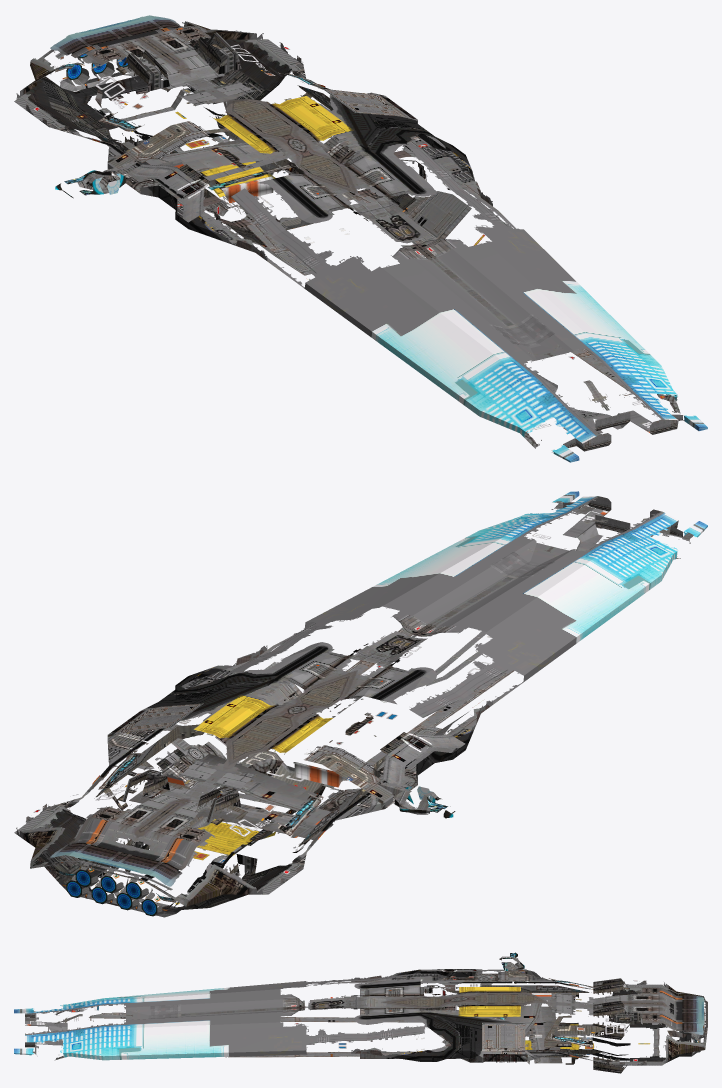
Rendered from LOD0-UVFlip.obj.
3 views of the same model, one above another, from view 1: azimuth 30°, elevation 25°; view 2: azimuth 150°, elevation 25°; view 3: azimuth 270°, elevation 25° (orthographic). The views are drawn at different scales.
Parts seen in each view (by area): view 1: Hgn_BattleCruiser_Main, Badge0_MAT, Hgn_BattleCruiser_Engine; view 2: Hgn_BattleCruiser_Main, thruster, Badge0_MAT; view 3: Hgn_BattleCruiser_Main, Badge0_MAT.
Boxes of the visible parts, <box> form: Hgn_BattleCruiser_Main: <box>14,15,707,462</box>; Badge0_MAT: <box>322,88,411,118</box>; Hgn_BattleCruiser_Engine: <box>55,170,125,198</box>; Hgn_BattleCruiser_Main: <box>14,491,707,917</box>; thruster: <box>66,869,157,916</box>; Badge0_MAT: <box>114,703,203,733</box>; Hgn_BattleCruiser_Main: <box>14,956,707,1073</box>; Badge0_MAT: <box>482,1022,525,1054</box>.
Bounding box in the file's own units: 363 × 92.9 × 937.
